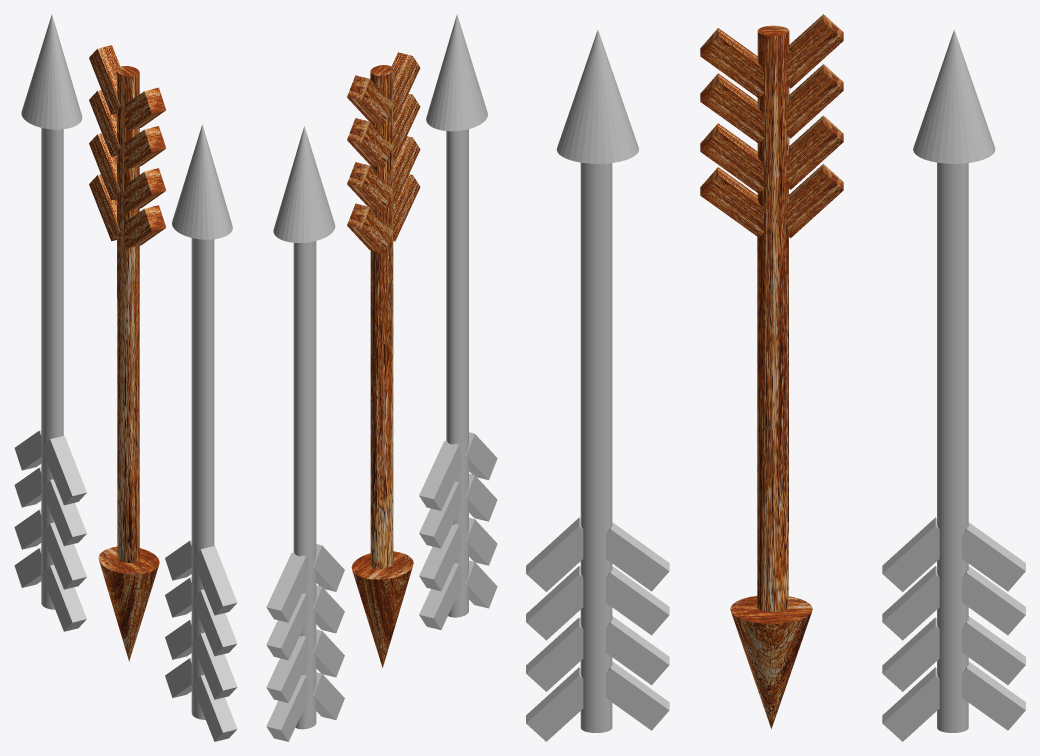
Rendered from Flechas.obj.
3 views of the same model, side by side, from view 1: azimuth 30°, elevation 25°; view 2: azimuth 150°, elevation 25°; view 3: azimuth 270°, elevation 25° (orthographic). The views are drawn at different scales.
Visible parts, largest first — view 1: Cube.001_Cube.009, Cube.004_Cube.005, Cube.002_Cube.001; view 2: Cube.002_Cube.001, Cube.004_Cube.005, Cube.001_Cube.009; view 3: Cube.004_Cube.005, Cube.001_Cube.009, Cube.002_Cube.001.
Part boxes in pixels (x1,y1,x2,y2): Cube.001_Cube.009: (89, 45, 166, 661); Cube.004_Cube.005: (165, 124, 237, 741); Cube.002_Cube.001: (14, 14, 86, 631); Cube.002_Cube.001: (266, 126, 344, 741); Cube.004_Cube.005: (419, 14, 497, 629); Cube.001_Cube.009: (347, 52, 420, 667); Cube.004_Cube.005: (526, 30, 669, 741); Cube.001_Cube.009: (700, 14, 843, 728); Cube.002_Cube.001: (882, 30, 1025, 741).
Size of the model in its own units: 0.7869 by 9.11 by 5.73.
